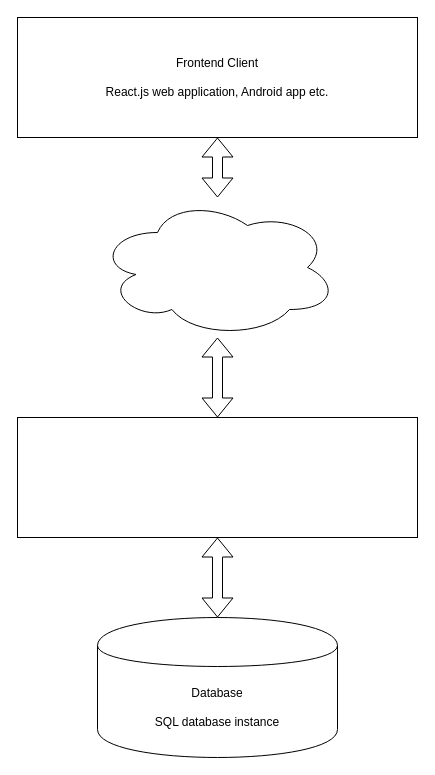
Image size: 435x775. Some labels were removed from this diagram. The shapes that lost their labels are listed below. From the top down, each one's box as (x1, y1, x2, y2) in pixels, then its label:
(96, 196, 338, 338): Cloudflare proxy servers
(16, 416, 418, 538): Backend Client Asynchronous API client running on containerized deployment
